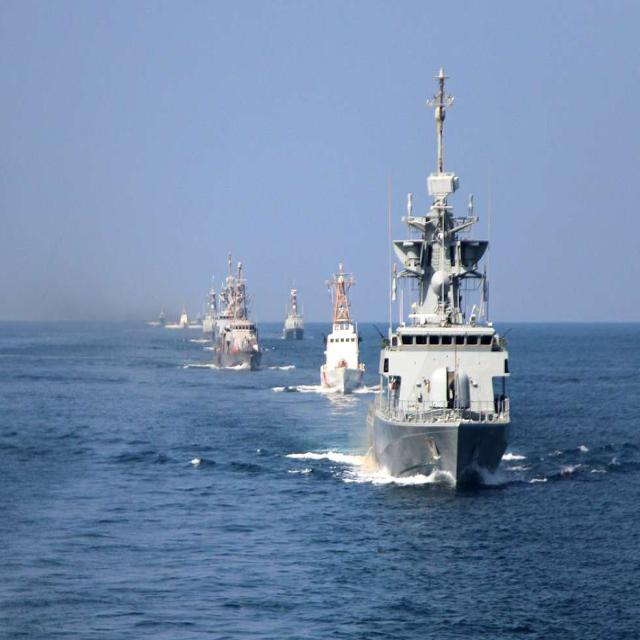navalvessels: (362, 61, 514, 488), (315, 242, 372, 400), (208, 261, 270, 374), (284, 276, 312, 352)
